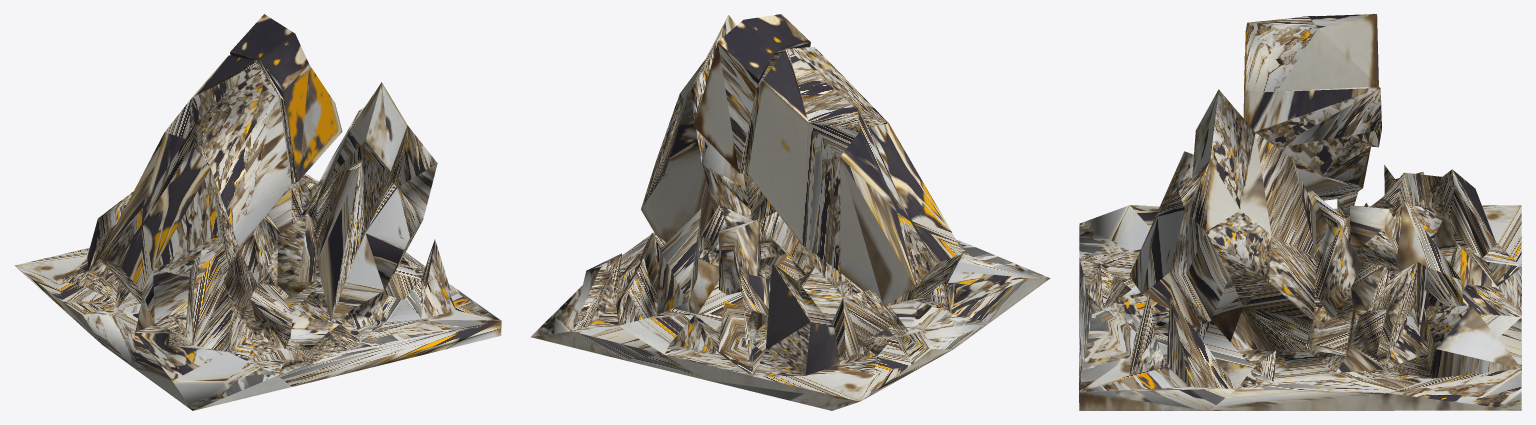
The model's file is cover_half_dock_v6_lod1.glb.
3 renders of one model, left to right at view 1: azimuth 30°, elevation 25°; view 2: azimuth 150°, elevation 25°; view 3: azimuth 270°, elevation 25°, orthographic. The views are drawn at different scales.
Visible parts, largest first — view 1: Mesh_0; view 2: Mesh_0; view 3: Mesh_0.
Part boxes in pixels (x1,y1,x2,y2): Mesh_0: [14, 14, 501, 410]; Mesh_0: [531, 14, 1050, 410]; Mesh_0: [1079, 14, 1521, 410].
Size of the model in its own units: 0.9598 by 0.7802 by 0.9599.
Materials: 1 (1 with a texture image).
